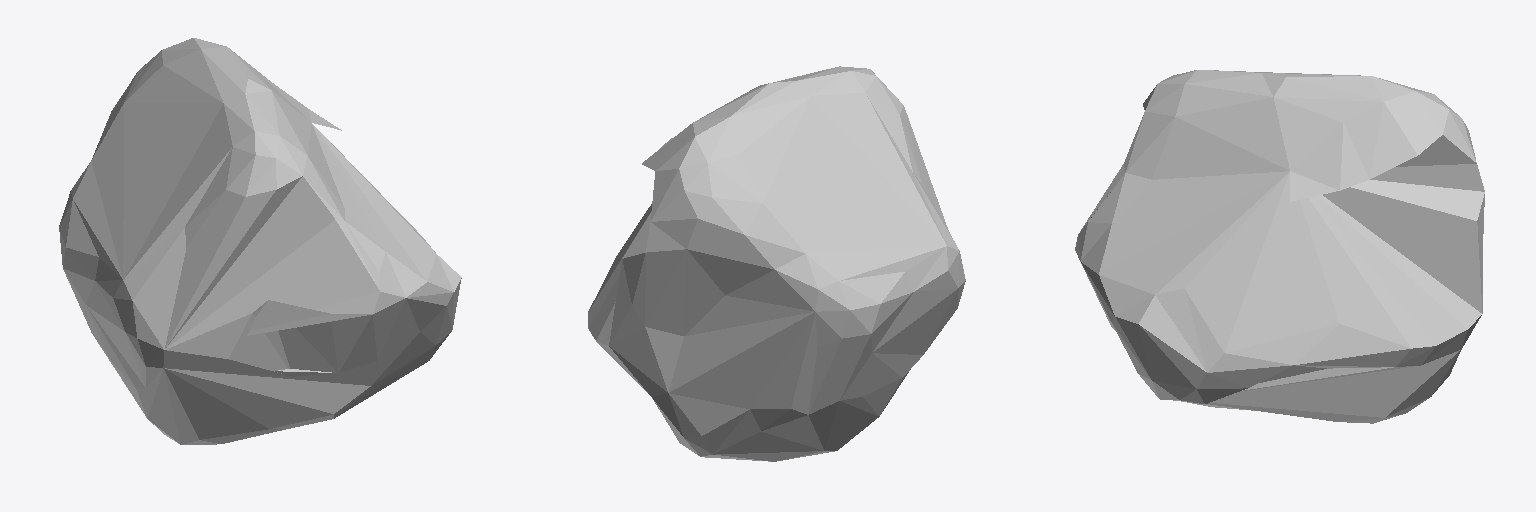
File: Rock.obj
3 views of the same model, side by side, from view 1: azimuth 30°, elevation 25°; view 2: azimuth 150°, elevation 25°; view 3: azimuth 270°, elevation 25° (orthographic).
Parts seen in each view (by area): view 1: Sphere.001; view 2: Sphere.001; view 3: Sphere.001.
Part boxes in pixels (x1,y1,x2,y2): Sphere.001: (59,38,461,444); Sphere.001: (588,66,965,461); Sphere.001: (1075,70,1484,423).
Bounding box in the file's own units: 2.12 × 2.21 × 2.33.